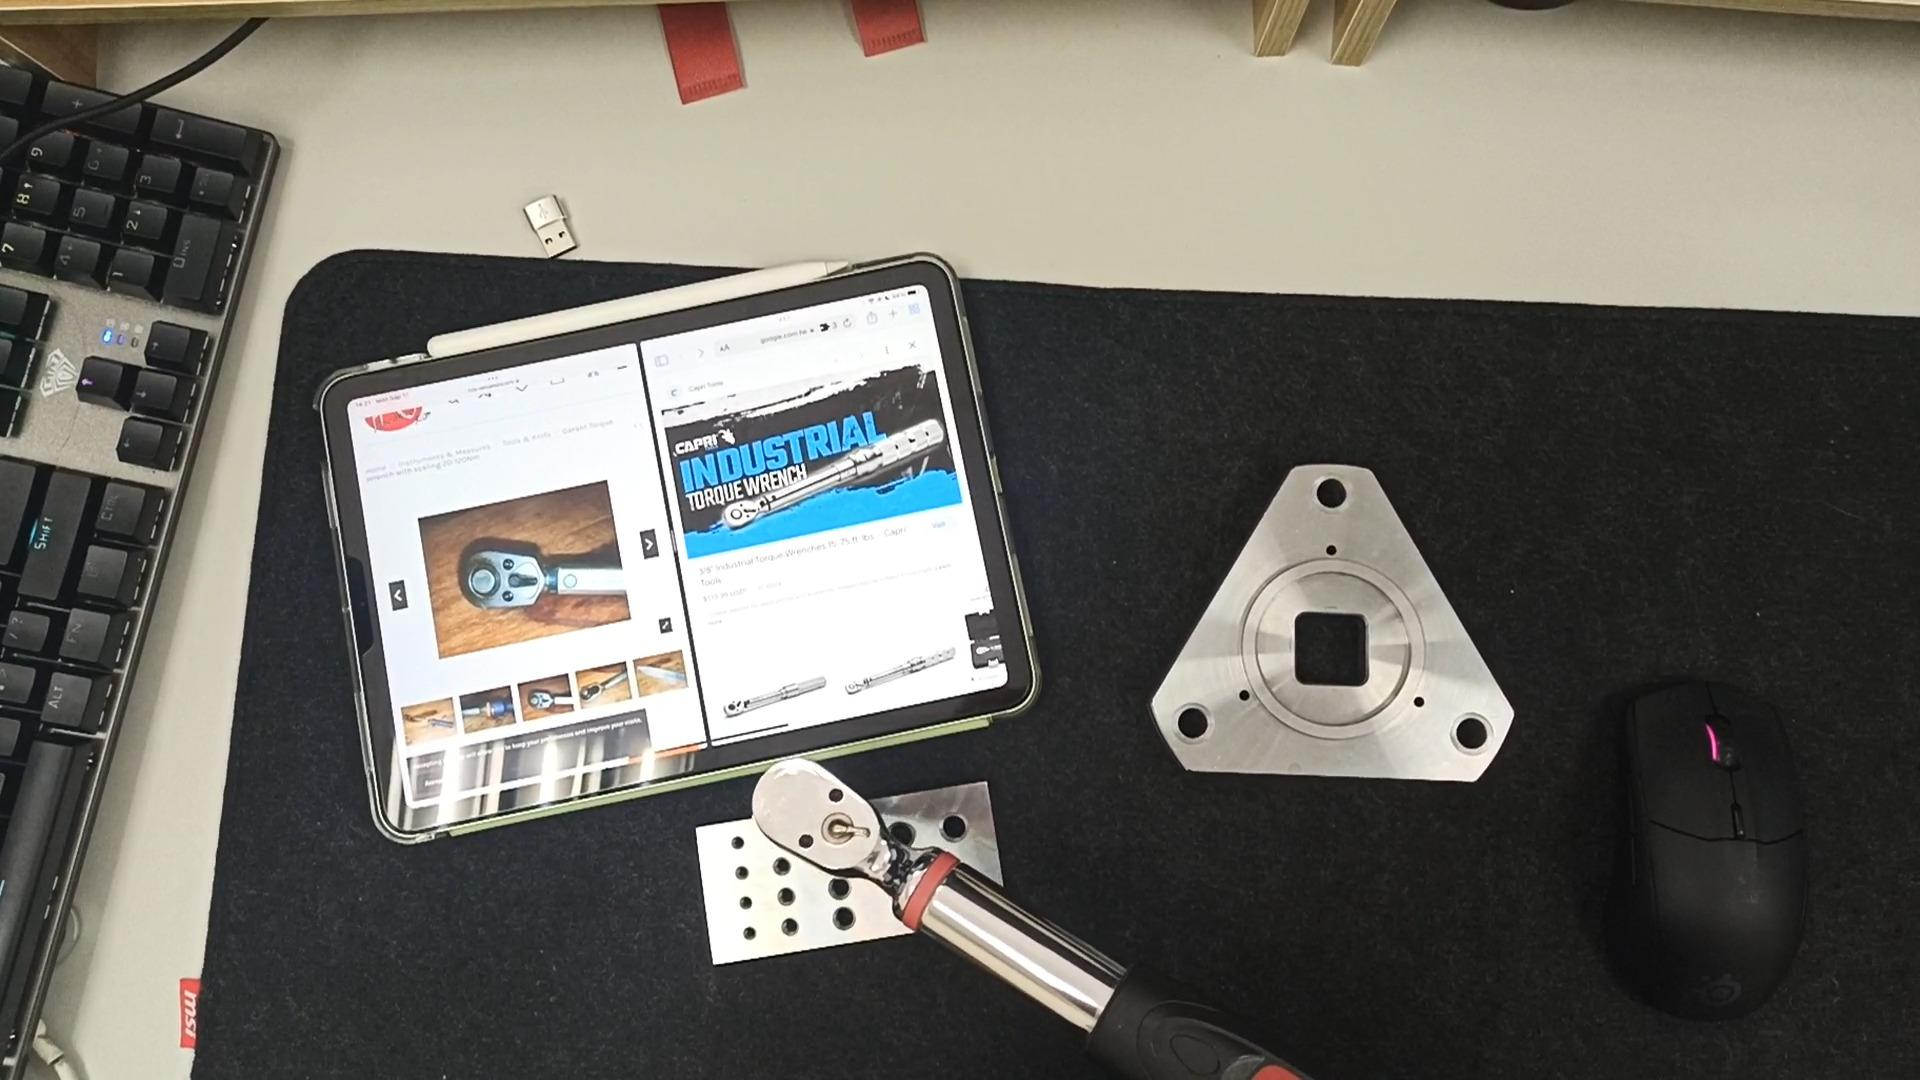Tool: (744, 753, 936, 907), (458, 542, 545, 616), (723, 495, 758, 531)
hole: (1294, 473, 1361, 521), (1441, 713, 1502, 762), (1163, 704, 1220, 750), (936, 812, 975, 849), (820, 909, 862, 935), (889, 815, 919, 851), (818, 876, 858, 901), (770, 884, 806, 906), (766, 856, 803, 877), (721, 862, 754, 884), (773, 919, 807, 939), (725, 890, 758, 910), (727, 924, 760, 944), (716, 835, 749, 855)
